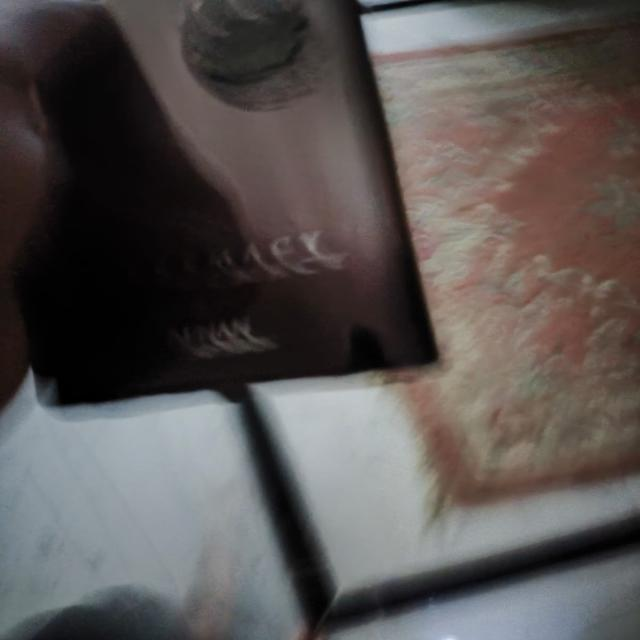Afnan: (1, 1, 638, 638), (3, 0, 441, 408)
